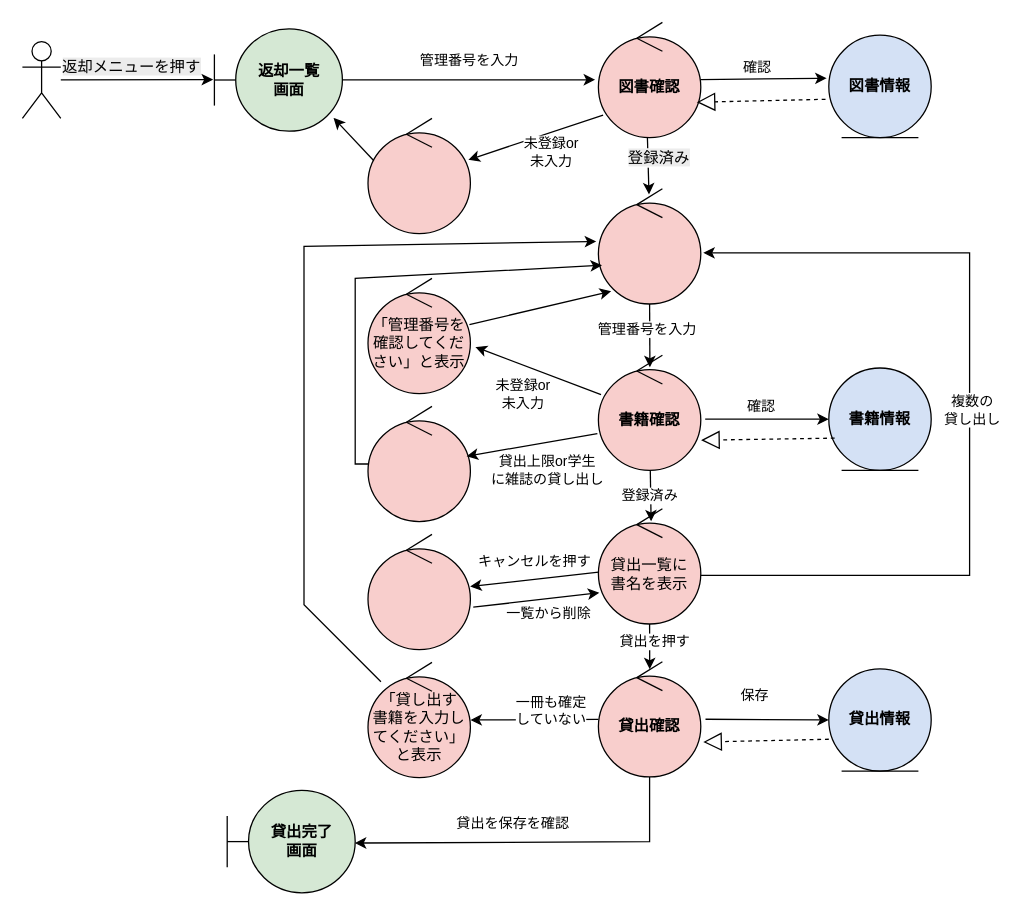
This 1021x915 diagram has some shape labels left out. The centre of each missing label's shape, as x and y in pixels:
Actor: (x=41, y=79)
「会員番号を 確認してください」と表示: (x=418, y=175)
キャンセル 確認: (x=418, y=591)
会員の氏名 会員種別を 表示: (x=649, y=246)
貸出できない理由を表示: (x=418, y=463)
